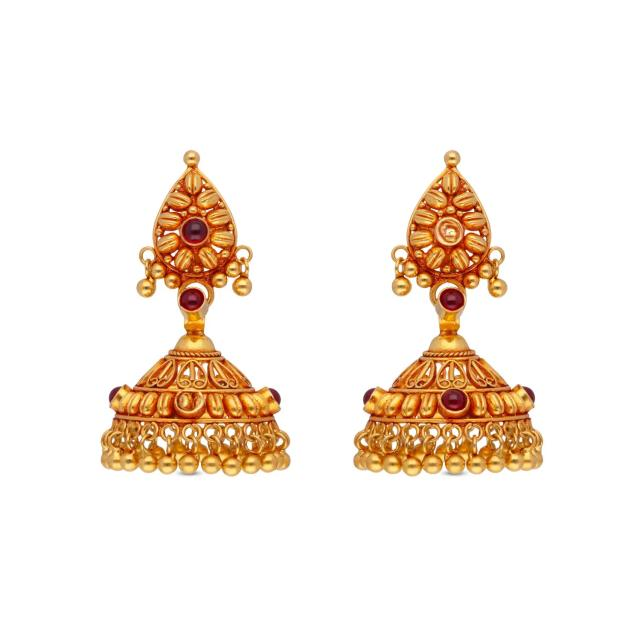missing gem: (176, 389, 202, 412), (438, 219, 461, 243)
